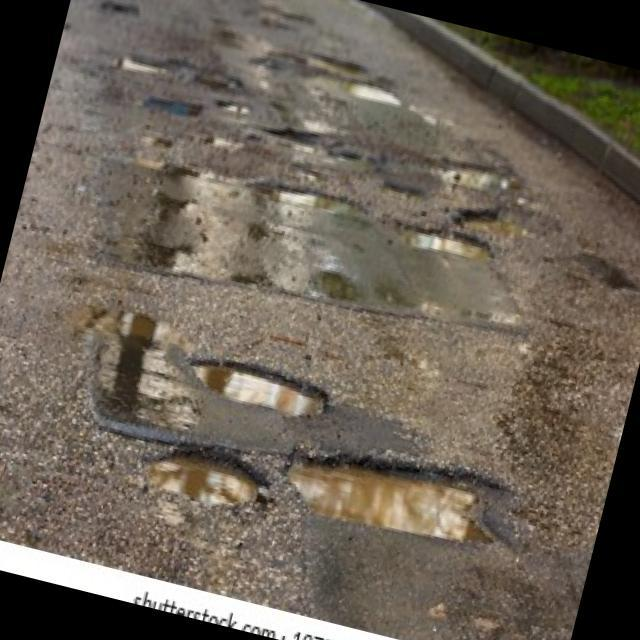Pothole: (275, 428, 517, 557), (130, 432, 276, 520), (182, 348, 333, 424), (386, 216, 496, 267), (244, 172, 358, 220), (449, 199, 538, 247), (141, 92, 204, 120), (115, 50, 168, 76), (202, 128, 244, 152), (214, 94, 251, 118), (139, 130, 174, 150)
